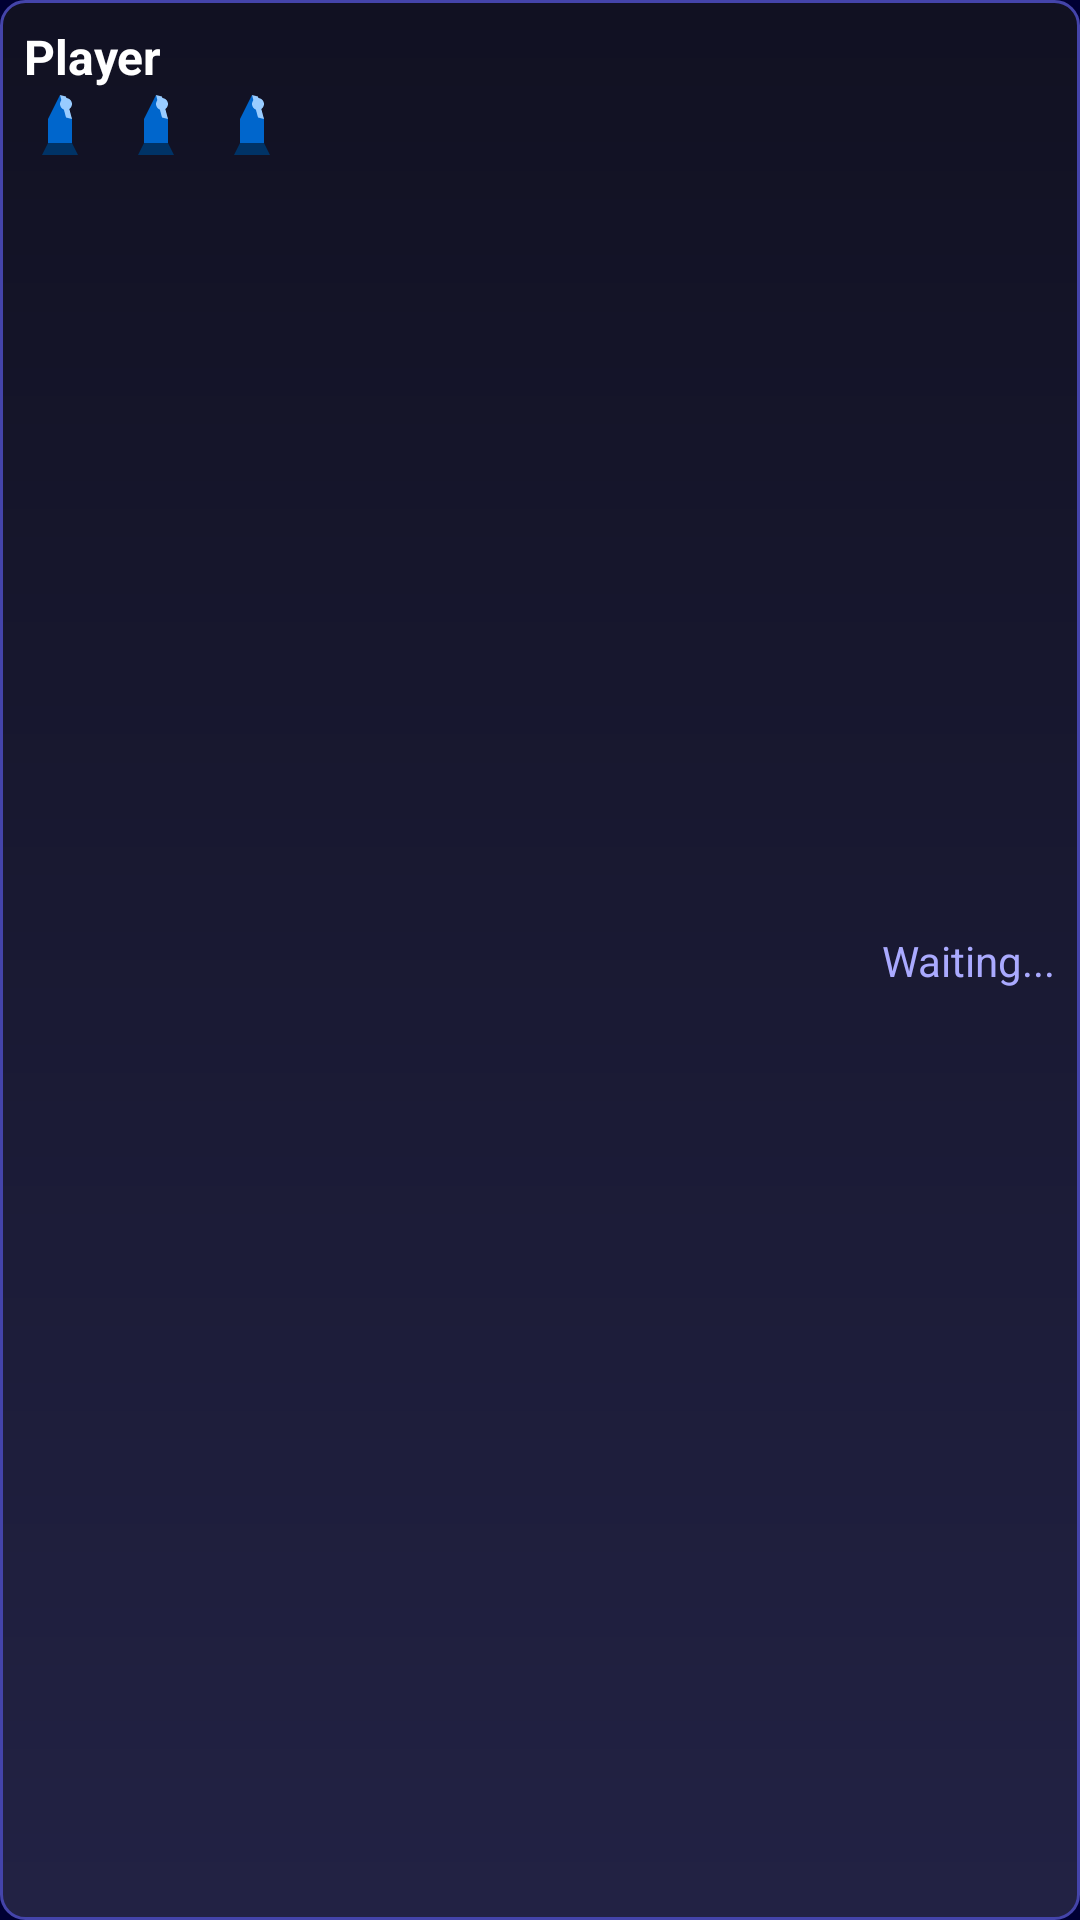

Where icons sit on this 1080 × 1920 app screen, as (x1, y1, x2, y2):
Spaceship 1: (42, 95, 78, 155)
Spaceship 2: (138, 95, 174, 155)
Spaceship 3: (234, 95, 270, 155)
